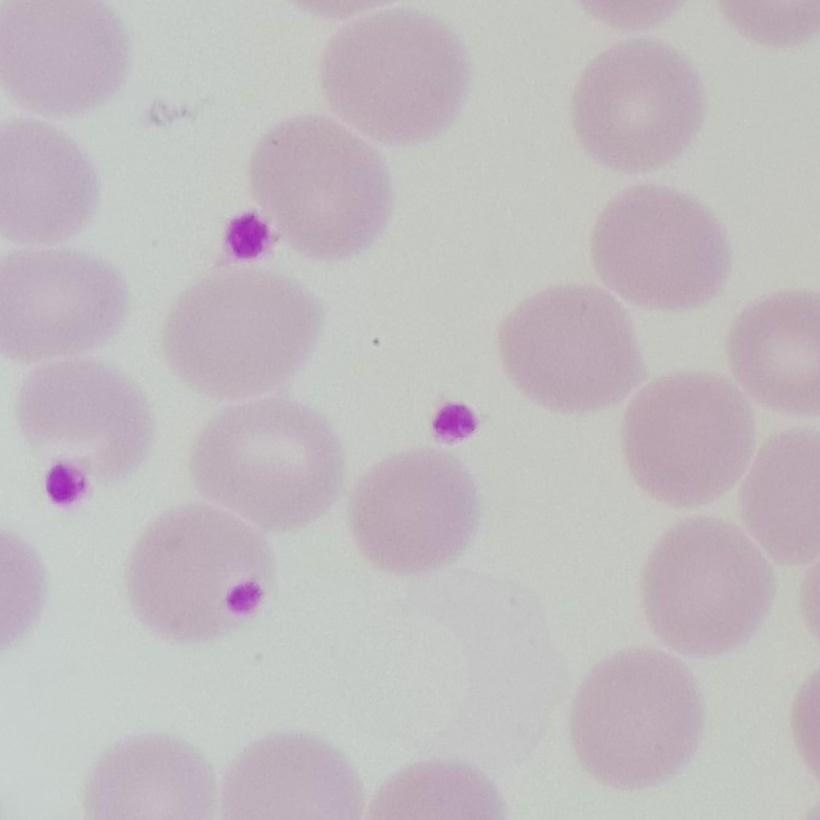Uninfected: (419, 164, 557, 325), (560, 247, 711, 393), (288, 191, 423, 344), (672, 319, 808, 469), (176, 128, 315, 274), (30, 570, 172, 708), (406, 499, 538, 646), (163, 641, 305, 774), (329, 16, 462, 156), (508, 592, 638, 730), (313, 624, 448, 756), (649, 572, 775, 707), (244, 348, 372, 479), (456, 0, 575, 129), (704, 0, 820, 129), (576, 0, 700, 103), (407, 728, 530, 819), (255, 740, 393, 818)
